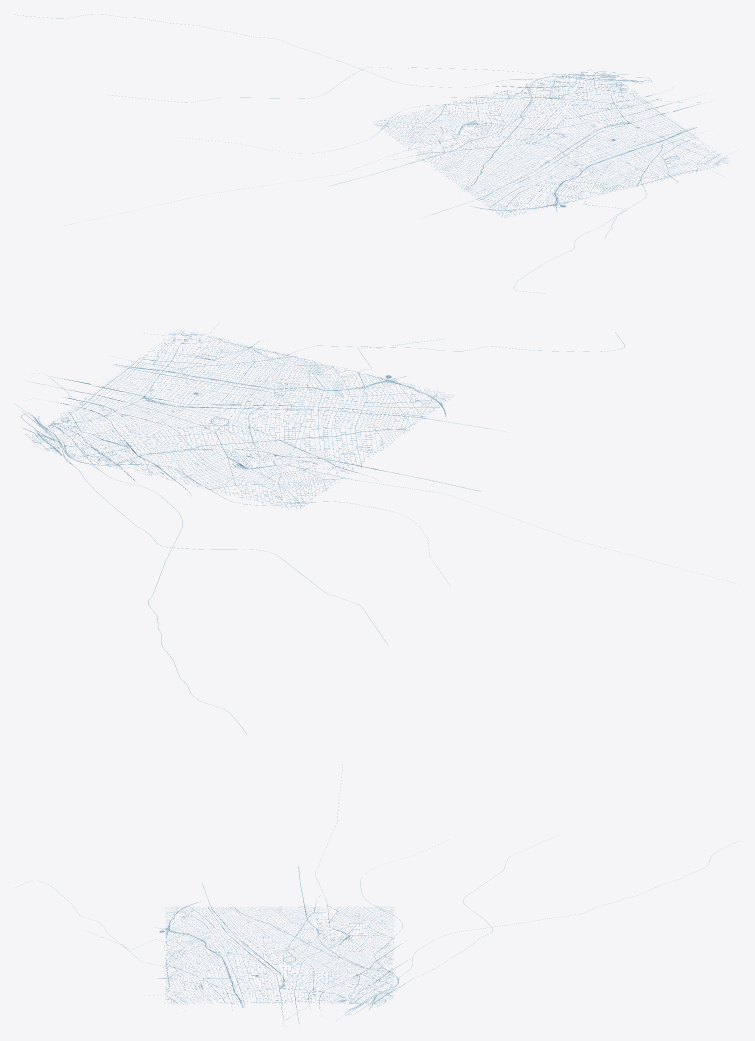
Rendered from roads.glb.
3 renders of one model, top to bottom at view 1: azimuth 30°, elevation 25°; view 2: azimuth 150°, elevation 25°; view 3: azimuth 270°, elevation 25°, orthographic. The views are drawn at different scales.
Parts seen in each view (by area): view 1: roads; view 2: roads; view 3: roads.
Boxes of the visible parts, x1,y1,x2,y2 form: roads: (14,14,739,293); roads: (14,322,734,734); roads: (15,764,740,1026).
Size of the model in its own units: 24627 by 56.15 by 28747.
